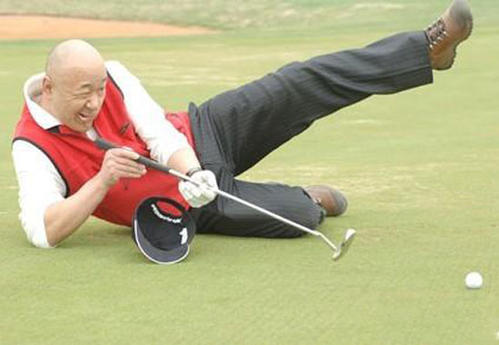fall: (1, 4, 497, 262)
